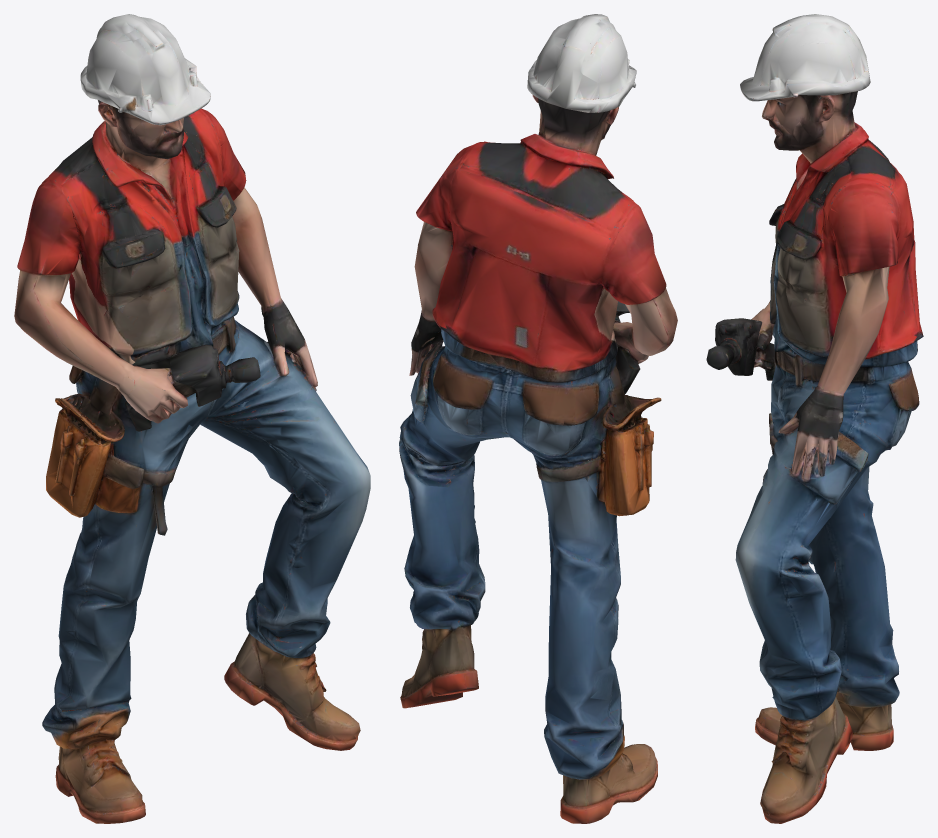
The model's file is trabalhador.glb.
The picture shows the model from 3 angles, left to right: view 1: azimuth 30°, elevation 25°; view 2: azimuth 150°, elevation 25°; view 3: azimuth 270°, elevation 25°; orthographic projection. The views are drawn at different scales.
Bounding box in the file's own units: 0.8295 × 2 × 0.5318.
1 material, 1 textured.
